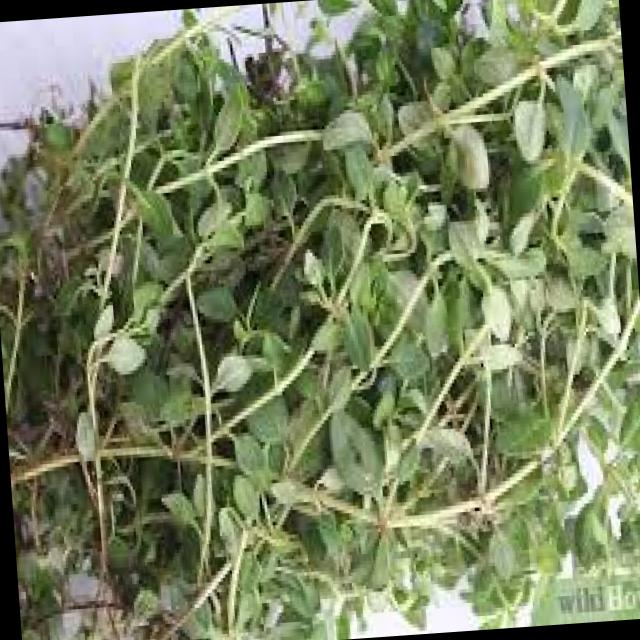Thyme: (6, 10, 640, 607)
